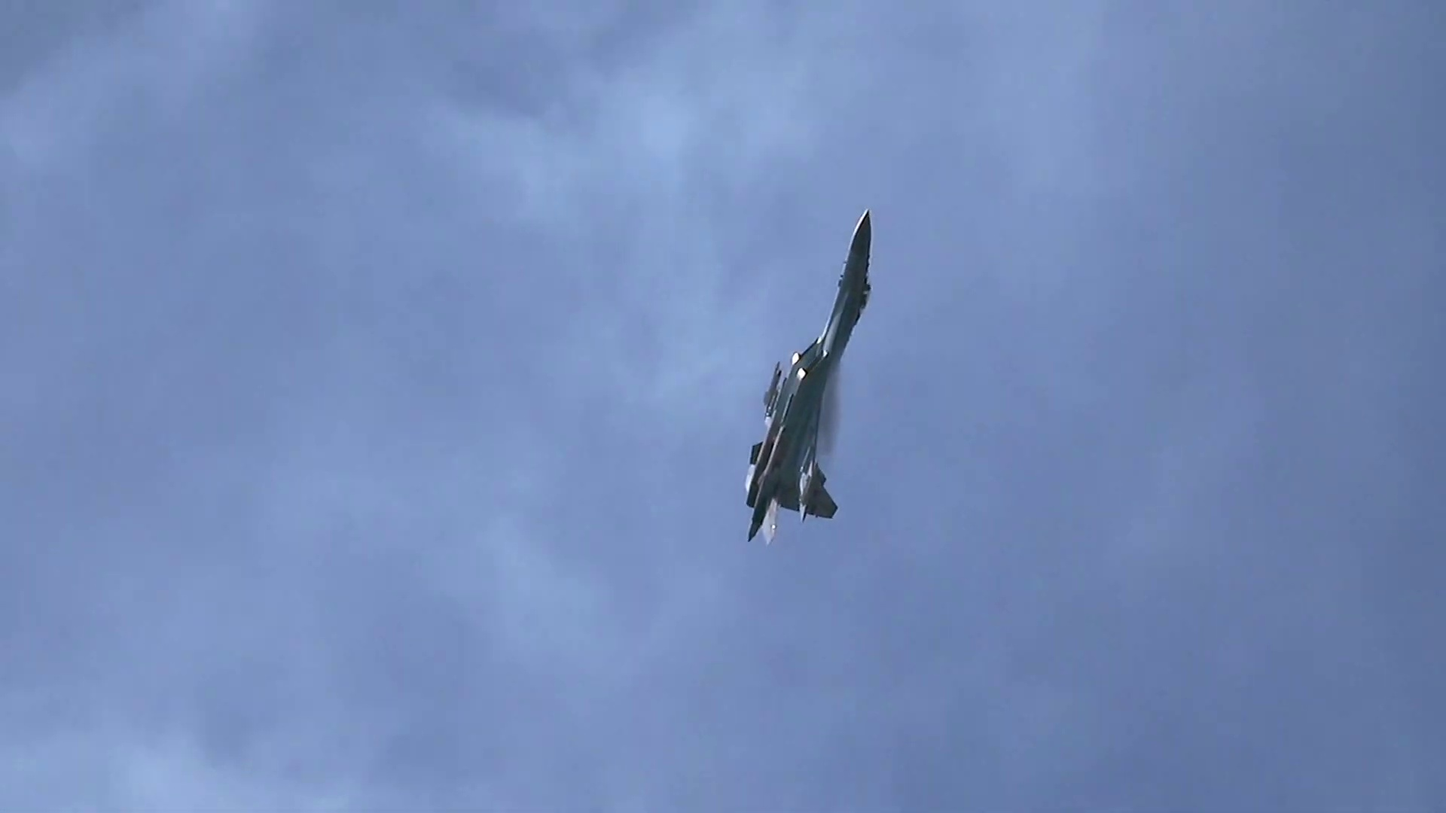Su35: (744, 208, 872, 546)
